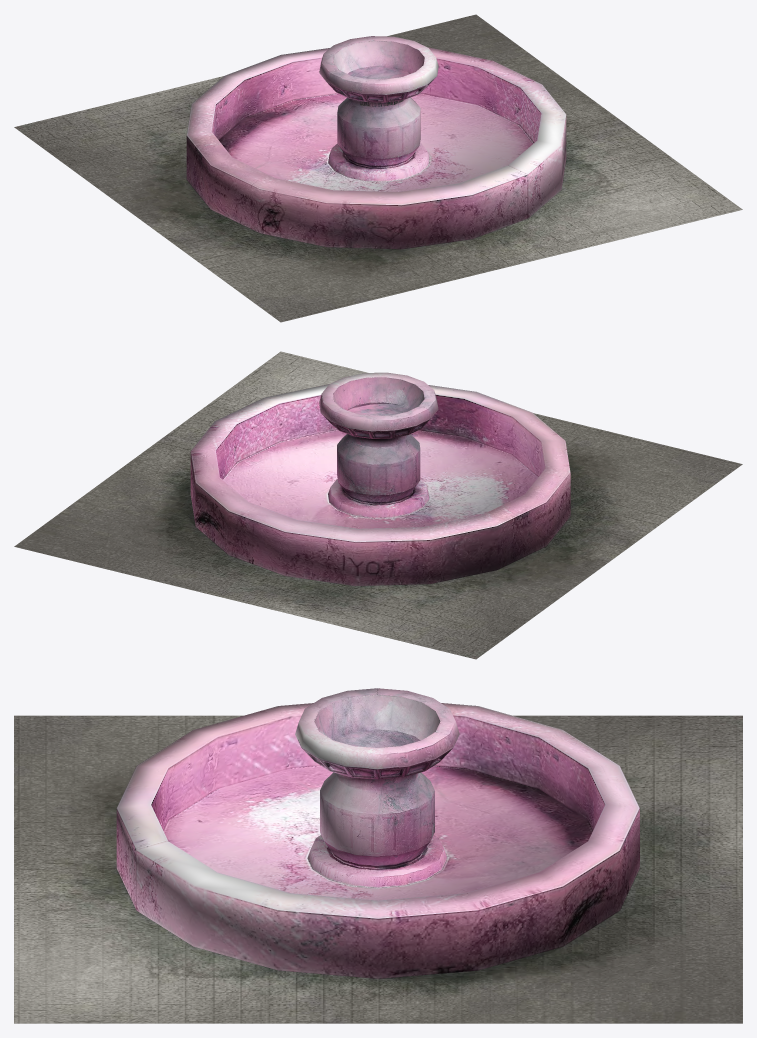
Rendered from Fountain.glb.
3 views of the same model, one above another, from view 1: azimuth 30°, elevation 25°; view 2: azimuth 150°, elevation 25°; view 3: azimuth 270°, elevation 25° (orthographic). The views are drawn at different scales.
Visible parts, largest first — view 1: Cylinder.002, Plane; view 2: Cylinder.002, Plane; view 3: Cylinder.002, Plane.
Part boxes in pixels (x1,y1,x2,y2): Cylinder.002: [186, 36, 566, 249]; Plane: [14, 14, 742, 322]; Cylinder.002: [190, 372, 570, 585]; Plane: [14, 351, 742, 659]; Cylinder.002: [116, 688, 639, 978]; Plane: [14, 715, 742, 1023].
Size of the model in its own units: 19.26 by 4.37 by 19.26.
Materials: 2 (2 with a texture image).
